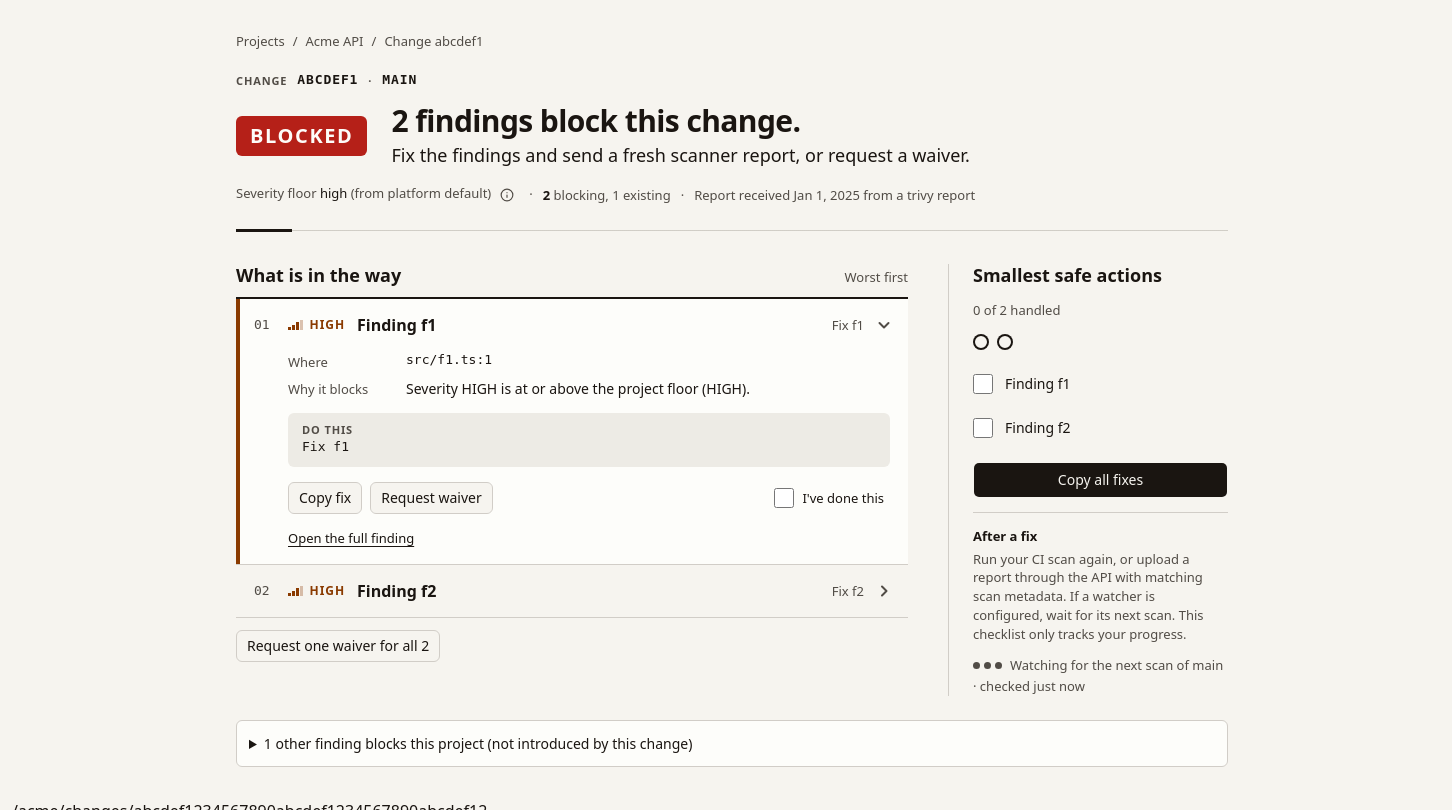
Test: ChangeView › folds only findings the change did not introduce into the debt section
Click the heading "1 other finding blocks this project (not introduced by this change)" at point(478, 743), box [264,734,692,752]
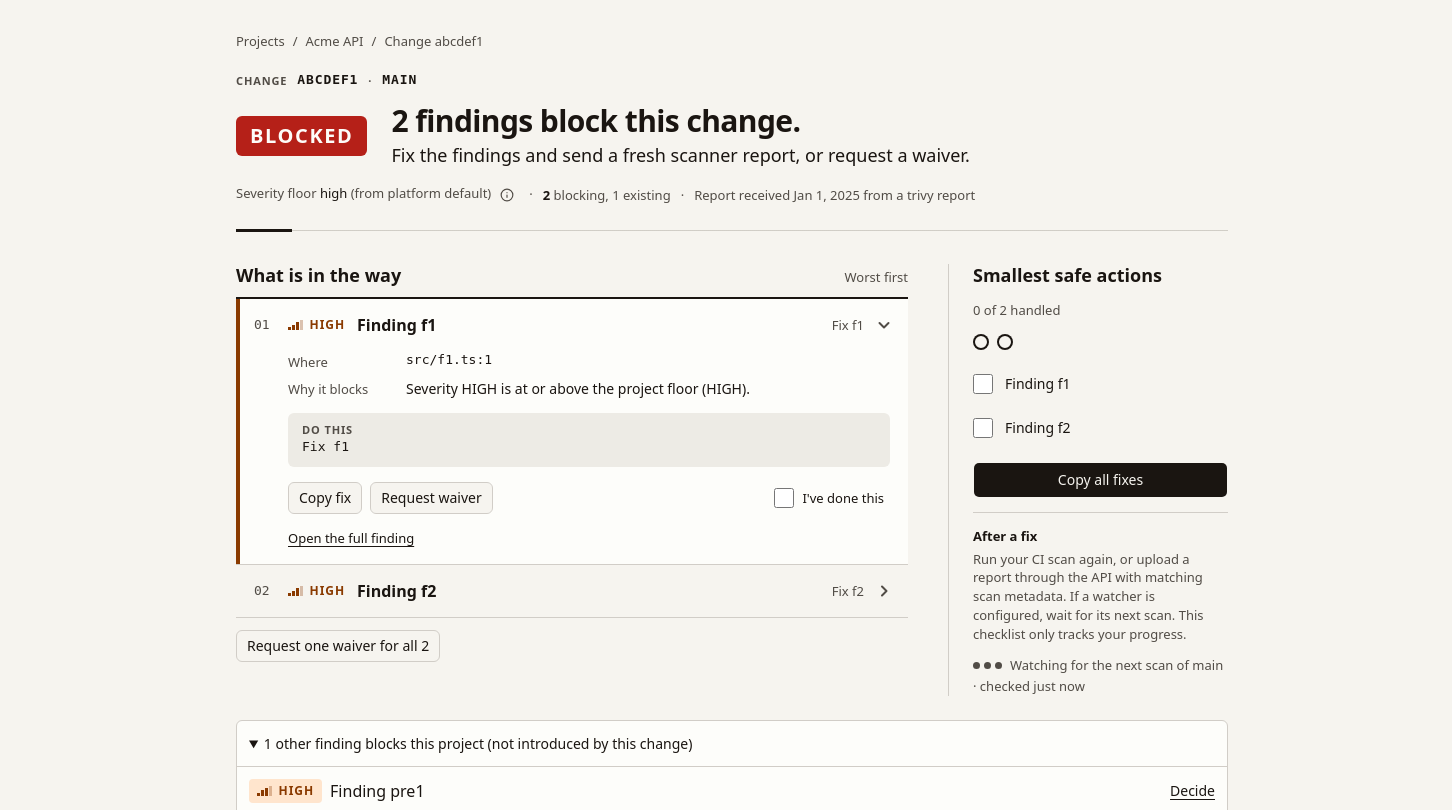
Now the link "Finding pre1" is shown, box [330,778,425,802]
